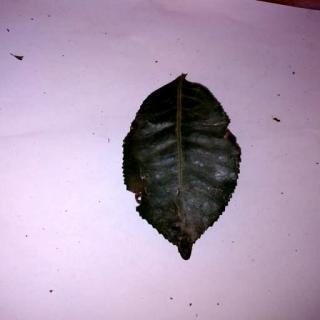Anthracnose: (124, 76, 244, 262)
